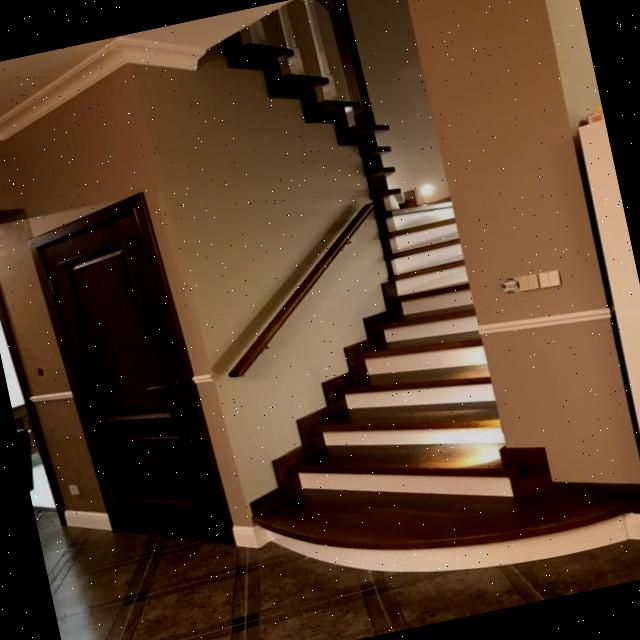stairs: (146, 0, 640, 614)
